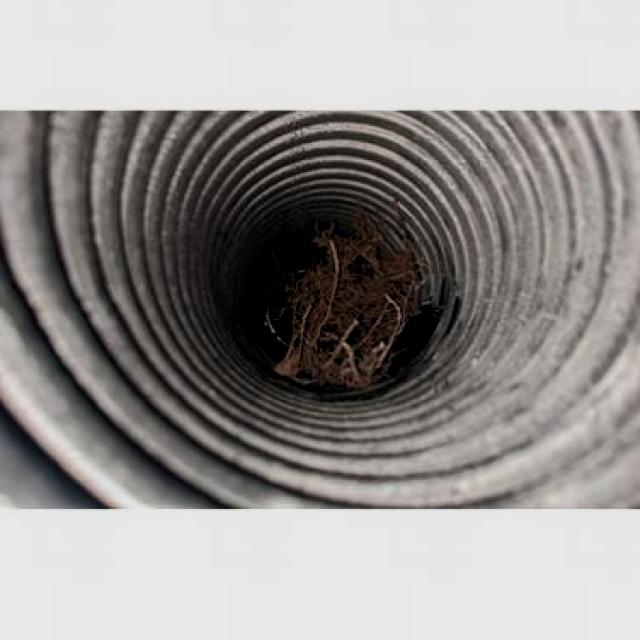root: (271, 231, 428, 384)
